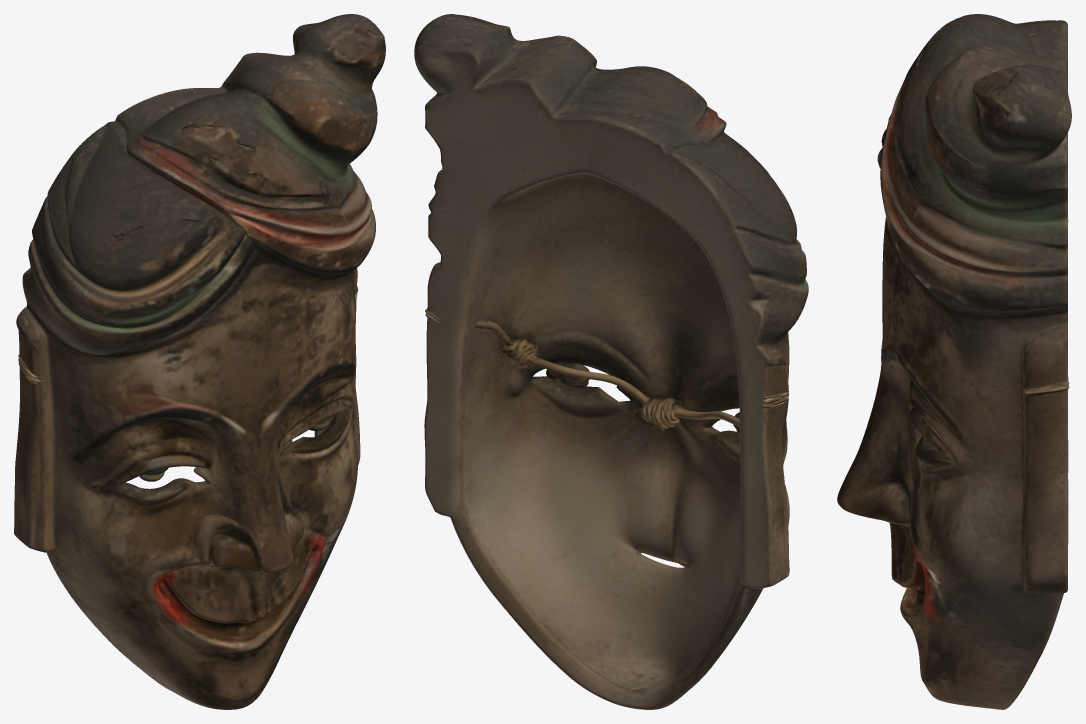
Rendered from mask-004.glb.
3 renders of one model, left to right at view 1: azimuth 30°, elevation 25°; view 2: azimuth 150°, elevation 25°; view 3: azimuth 270°, elevation 25°, orthographic. The views are drawn at different scales.
Visible parts, largest first — view 1: node_0; view 2: node_0; view 3: node_0.
Boxes of the visible parts, x1,y1,x2,y2 form: node_0: [14, 14, 385, 709]; node_0: [414, 14, 808, 709]; node_0: [837, 14, 1071, 709].
Bounding box in the file's own units: 0.6132 × 1.05 × 0.3164.
Materials: 1 (1 with a texture image).
